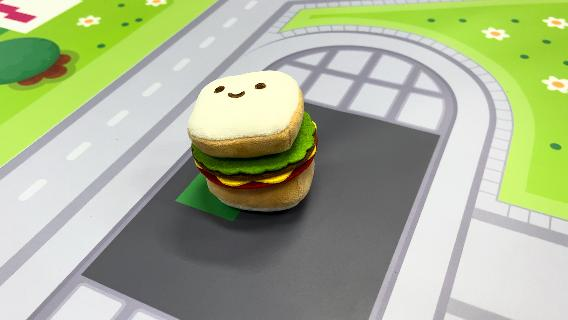sandwich: (186, 68, 320, 214)
